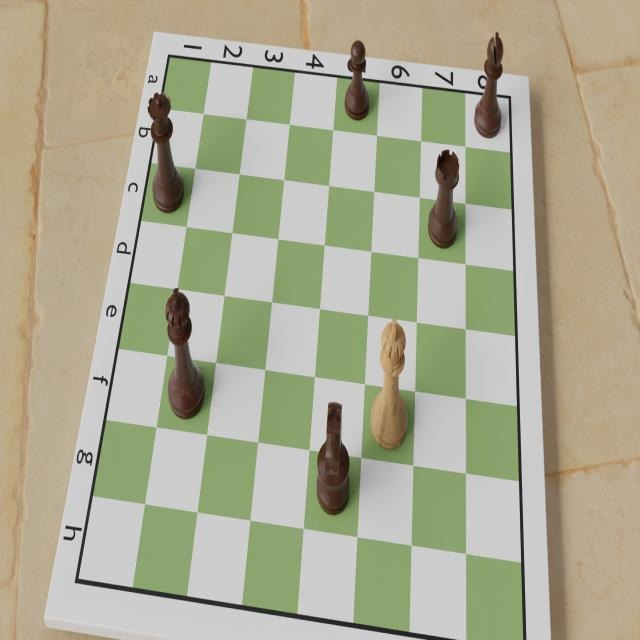black-bishop: (473, 25, 506, 146)
black-king: (165, 285, 205, 427)
black-knight: (312, 397, 352, 519)
black-pawn: (339, 34, 373, 126)
black-queen: (146, 87, 185, 217)
black-rook: (425, 147, 463, 255)
white-king: (368, 312, 413, 460)
